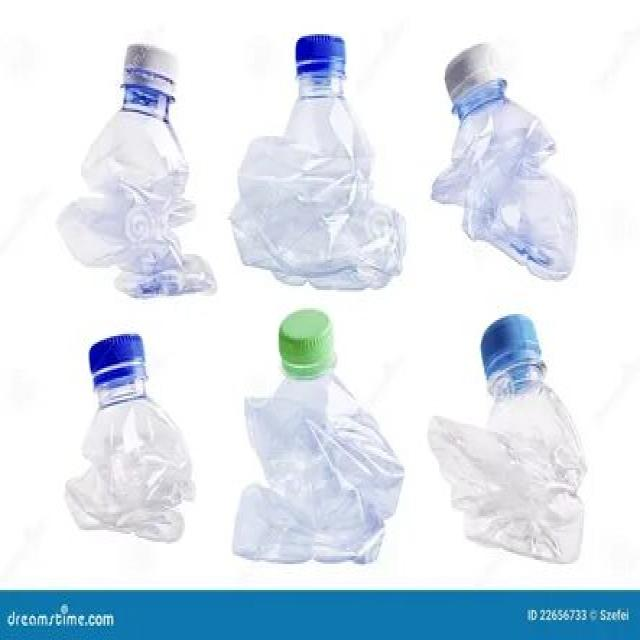blue: (56, 81, 218, 296), (428, 88, 580, 280)
